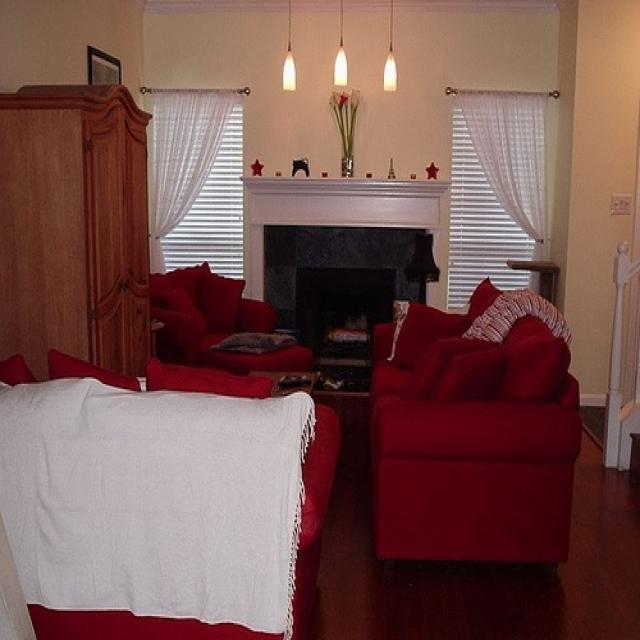chair: (154, 264, 276, 362)
sofa: (2, 355, 344, 630), (374, 282, 580, 568)
